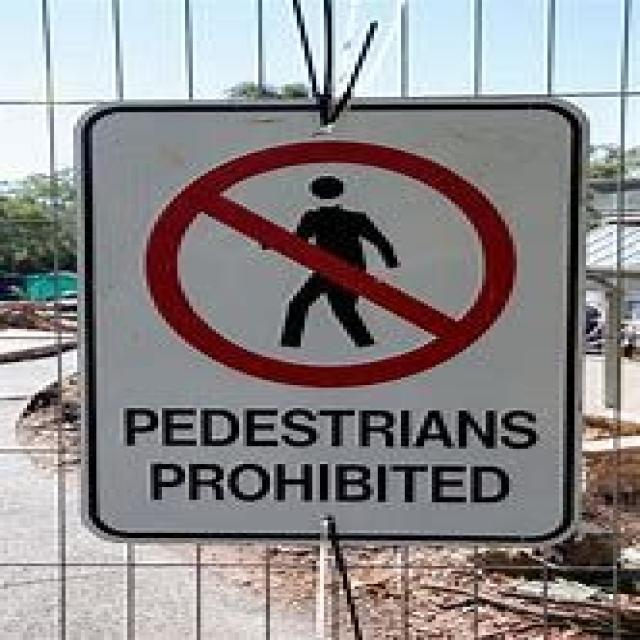Priority road: (138, 138, 516, 388)
